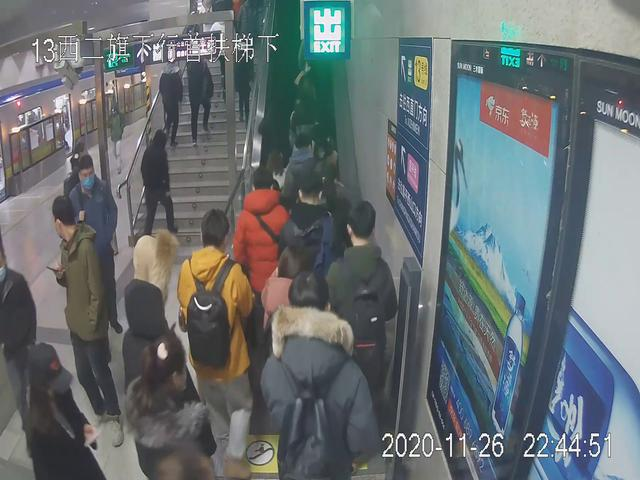person: (263, 269, 381, 476), (176, 208, 265, 480), (53, 196, 130, 453), (322, 200, 399, 433), (127, 330, 220, 480), (61, 155, 127, 333), (277, 174, 341, 348), (236, 165, 295, 346), (3, 247, 45, 447), (136, 126, 184, 240), (180, 45, 217, 144), (156, 53, 182, 149)
